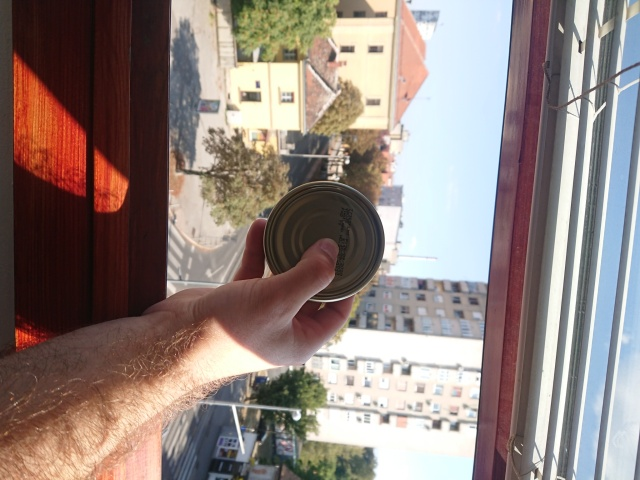Giana Tuna Salad Mexico 185g: (260, 177, 387, 305)
